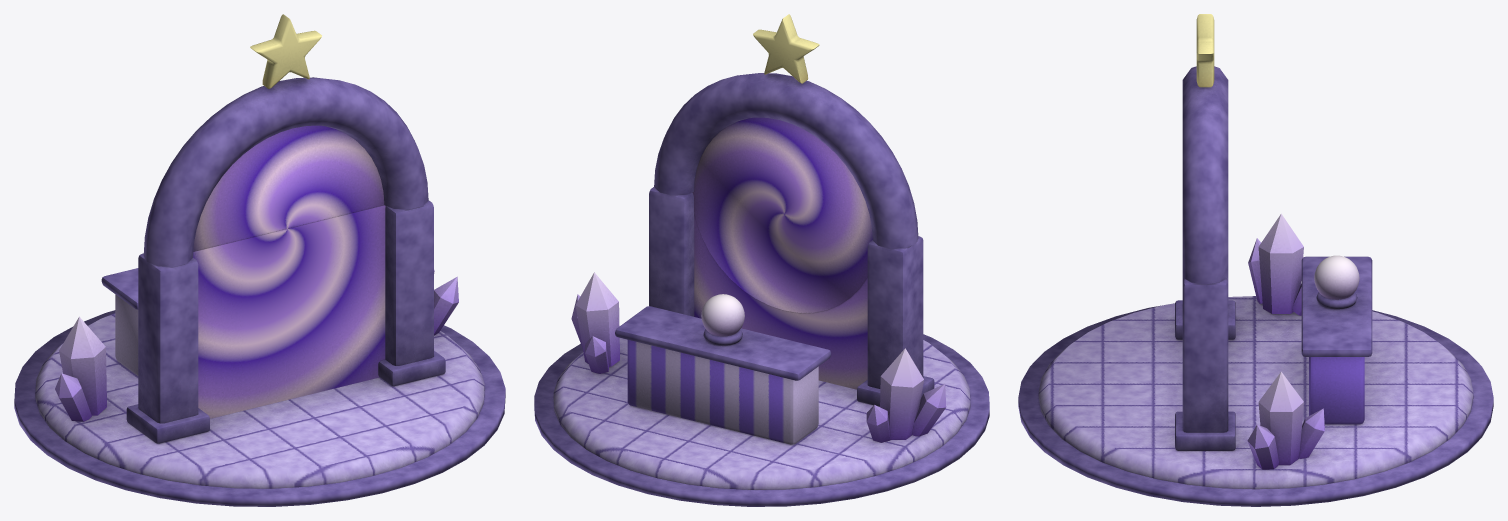
Rendered from Rebirth.fbx.
The picture shows the model from 3 angles, left to right: view 1: azimuth 30°, elevation 25°; view 2: azimuth 150°, elevation 25°; view 3: azimuth 270°, elevation 25°; orthographic projection. The views are drawn at different scales.
Parts seen in each view (by area): view 1: Rebirth; view 2: Rebirth; view 3: Rebirth.
Part boxes in pixels (x1,y1,x2,y2): Rebirth: (14,14,505,506); Rebirth: (534,14,989,506); Rebirth: (1018,14,1493,506).
Size of the model in its own units: 18.8 by 17.13 by 18.8.
1 material, 1 textured.
